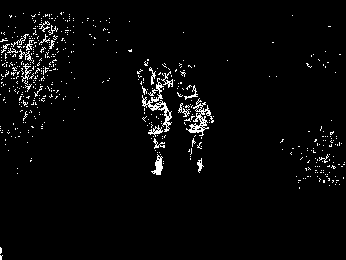person: (184, 84, 215, 178), (146, 86, 174, 176)
